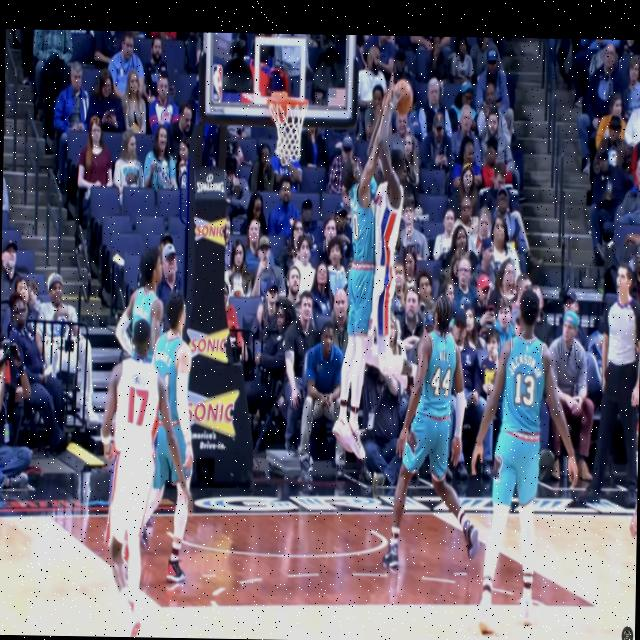foul: (330, 64, 417, 462)
no foul: (379, 278, 484, 604), (93, 298, 158, 610), (139, 282, 200, 591)
